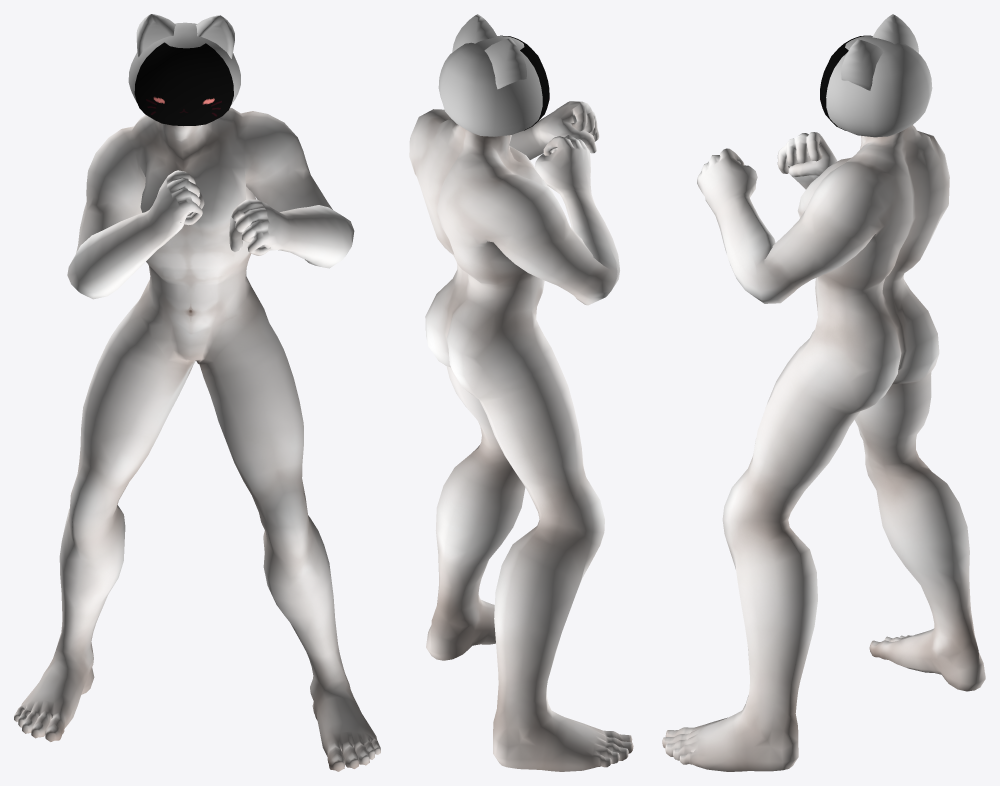
The picture shows the model from 3 angles, left to right: view 1: azimuth 30°, elevation 25°; view 2: azimuth 150°, elevation 25°; view 3: azimuth 270°, elevation 25°; orthographic projection.
Parts seen in each view (by area): view 1: Muscle_Body, ______?001, Cat_Head; view 2: Muscle_Body, Cat_Head, ______?001; view 3: Muscle_Body, Cat_Head, ______?001.
Boxes of the visible parts, <box> form: Muscle_Body: <box>14,107,380,771</box>; ______?001: <box>134,42,233,125</box>; Cat_Head: <box>128,14,240,106</box>; Muscle_Body: <box>409,101,633,771</box>; Cat_Head: <box>438,14,542,136</box>; ______?001: <box>500,35,549,130</box>; Muscle_Body: <box>662,125,985,771</box>; Cat_Head: <box>826,14,932,137</box>; ______?001: <box>820,35,870,130</box>.
Bounding box in the file's own units: 11.18 × 28.36 × 11.98.
